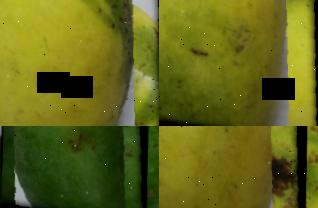PartiallyRipe: (159, 0, 318, 126)
Ripe: (0, 0, 159, 126), (159, 126, 310, 208)
Unripe: (0, 126, 149, 208)
